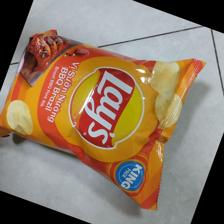Lays: (3, 29, 210, 217)
